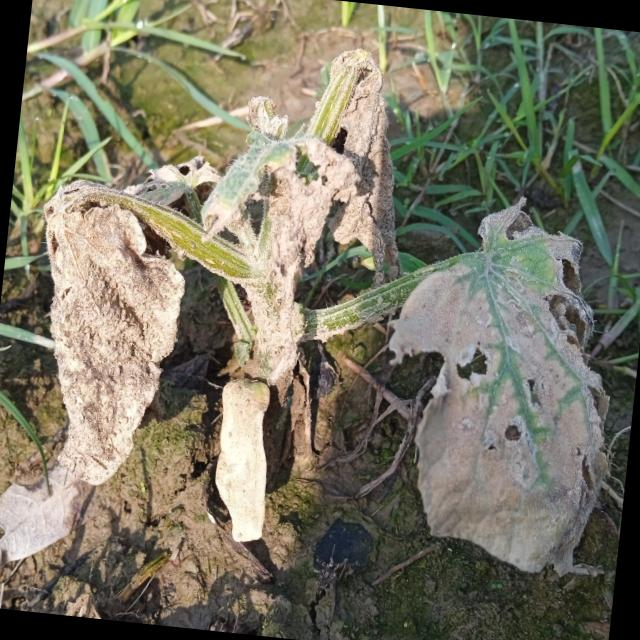cucumber_bacterial: (376, 197, 640, 576), (0, 165, 216, 499), (166, 70, 373, 412), (291, 25, 452, 206)
